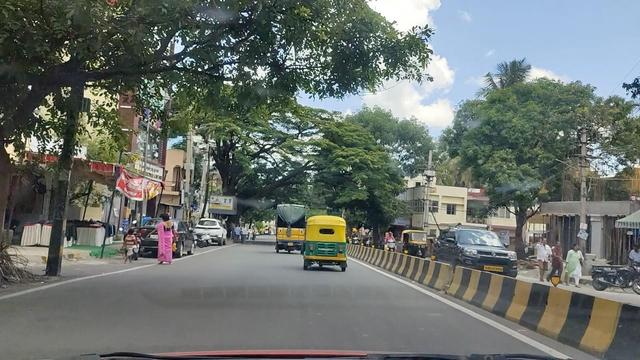HMV: (278, 205, 302, 248)
LMV: (306, 216, 344, 262)
